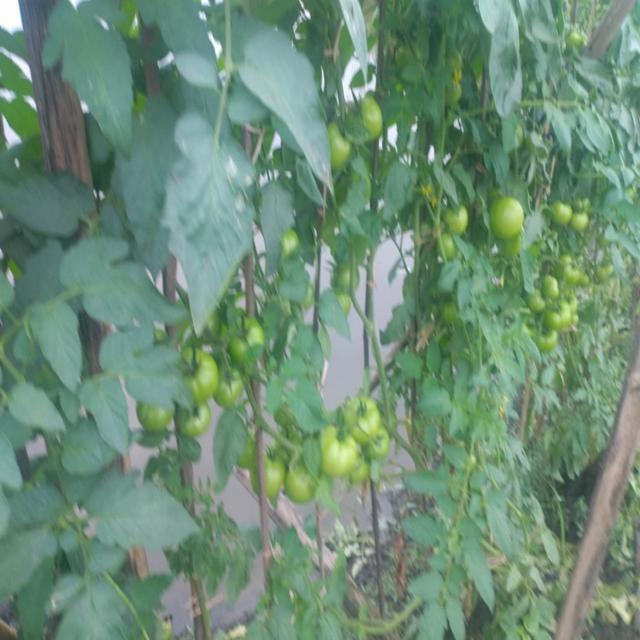tomato: (320, 428, 363, 479), (348, 394, 380, 441), (489, 200, 523, 243), (190, 349, 215, 402), (234, 317, 266, 357), (287, 458, 318, 499), (139, 404, 174, 438), (328, 121, 353, 166), (219, 369, 244, 408), (361, 101, 385, 141), (332, 262, 358, 296), (269, 452, 285, 504), (542, 272, 568, 301), (368, 427, 390, 458), (189, 403, 209, 436), (538, 322, 559, 353), (443, 208, 469, 233), (395, 40, 424, 62), (550, 303, 571, 333), (567, 210, 589, 238), (552, 202, 571, 227), (563, 258, 580, 284), (600, 259, 616, 285), (527, 289, 542, 316), (284, 233, 302, 255), (564, 293, 580, 317), (444, 237, 458, 264), (449, 51, 464, 73), (454, 86, 467, 111), (567, 31, 585, 46)
